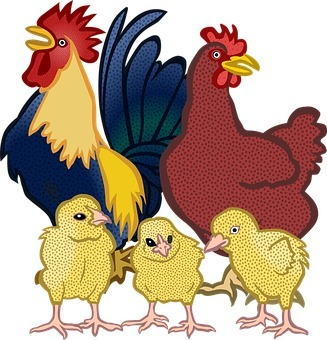bird: (1, 4, 192, 290), (155, 22, 327, 308), (201, 204, 314, 338), (27, 193, 125, 339), (116, 217, 217, 337)
